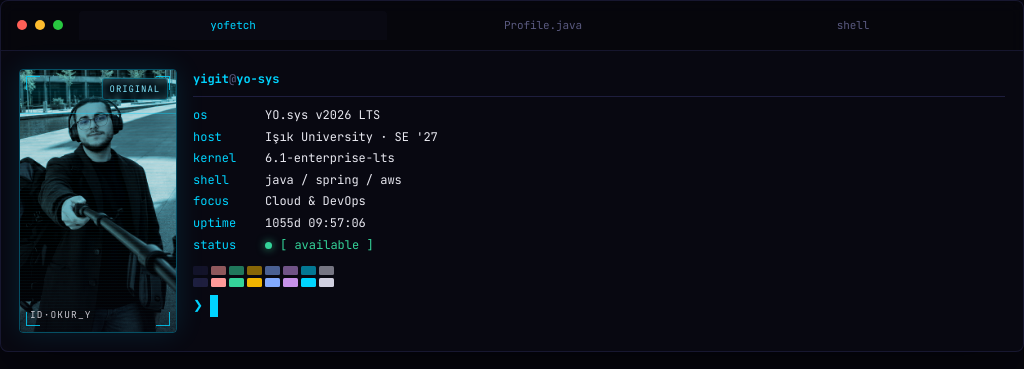
Test: SystemTerminal › completes to the shared prefix and lists ambiguous matches
The width and height of the screenshot is (1024, 369).
Click the tab "shell".
click(853, 25)  # box [699,11,1007,40]
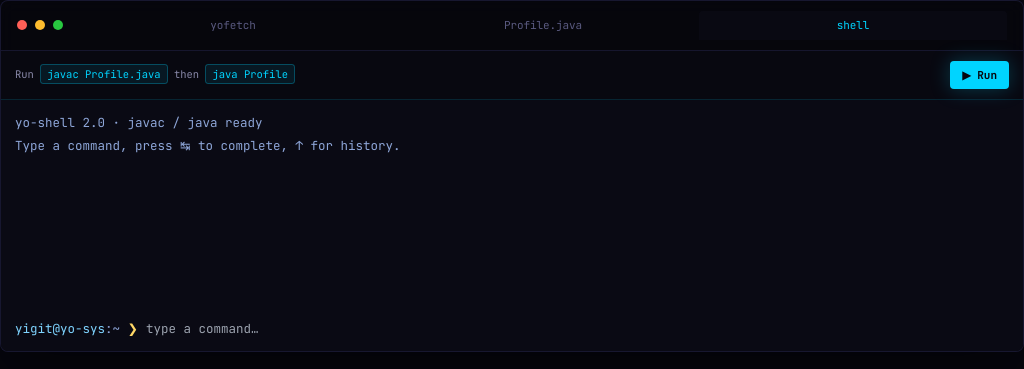
Type "j" into the field named "Shell input".
click(578, 329); type("j")  # box [146,320,1009,339]
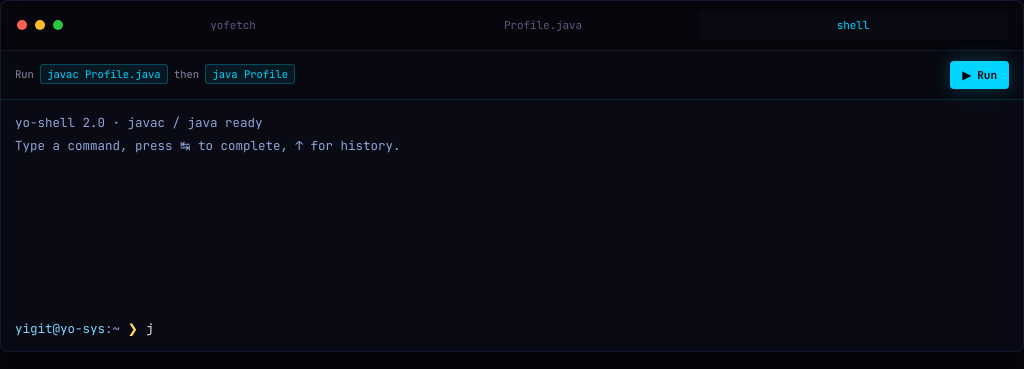
Press Tab in the field named "Shell input", box [146,320,1009,339]
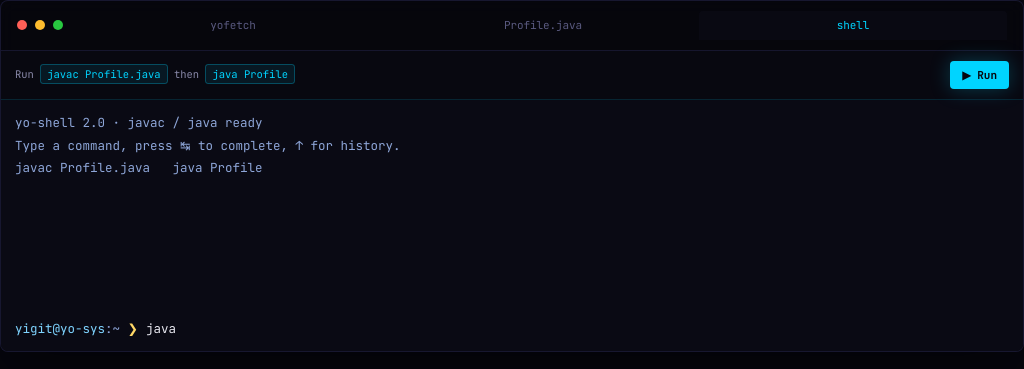
Now the field named "Shell input" holds "java", box [146,320,1009,339]
Now the text "javac Profile.java java Profile" is shown, box [15,159,262,176]
